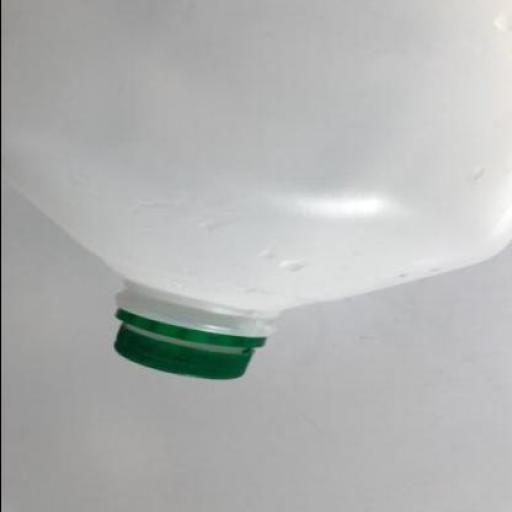plastic: (1, 0, 511, 382), (112, 305, 267, 382)
